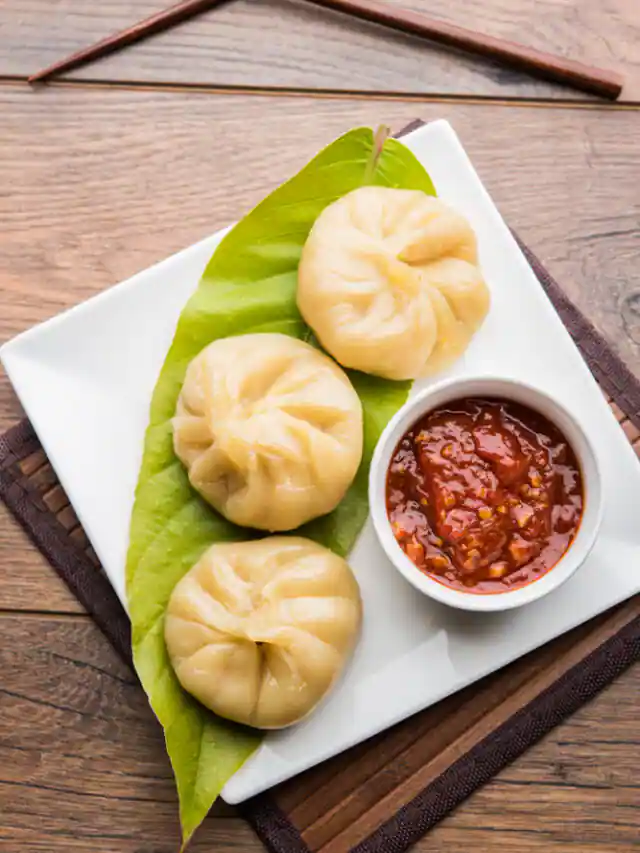momo: (164, 328, 374, 532), (154, 536, 364, 736), (304, 178, 490, 384)
